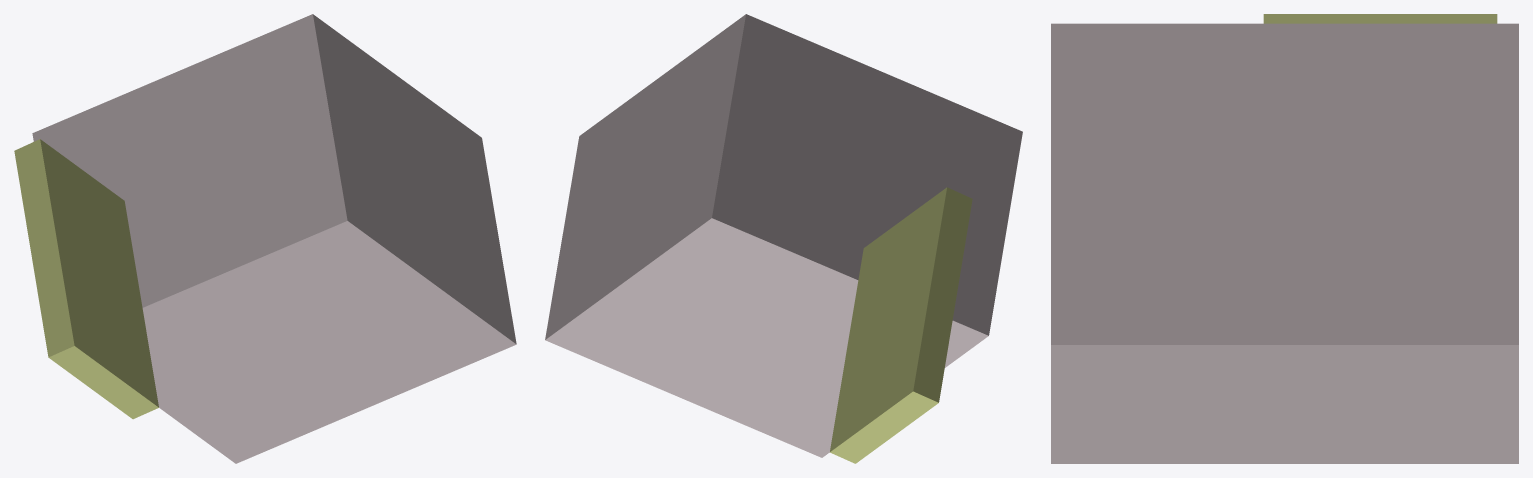
3 views of the same model, side by side, from view 1: azimuth 30°, elevation 25°; view 2: azimuth 150°, elevation 25°; view 3: azimuth 270°, elevation 25° (orthographic). The views are drawn at different scales.
Visible parts, largest first — view 1: 0_2_1_3_3_0_3_2; view 2: 0_2_1_3_3_0_3_2; view 3: 0_2_1_3_3_0_3_2.
Boxes of the visible parts, x1,y1,x2,y2 form: 0_2_1_3_3_0_3_2: (14, 14, 516, 463); 0_2_1_3_3_0_3_2: (545, 14, 1022, 463); 0_2_1_3_3_0_3_2: (1051, 14, 1518, 463).
Size of the model in its own units: 13.97 by 10.63 by 12.
